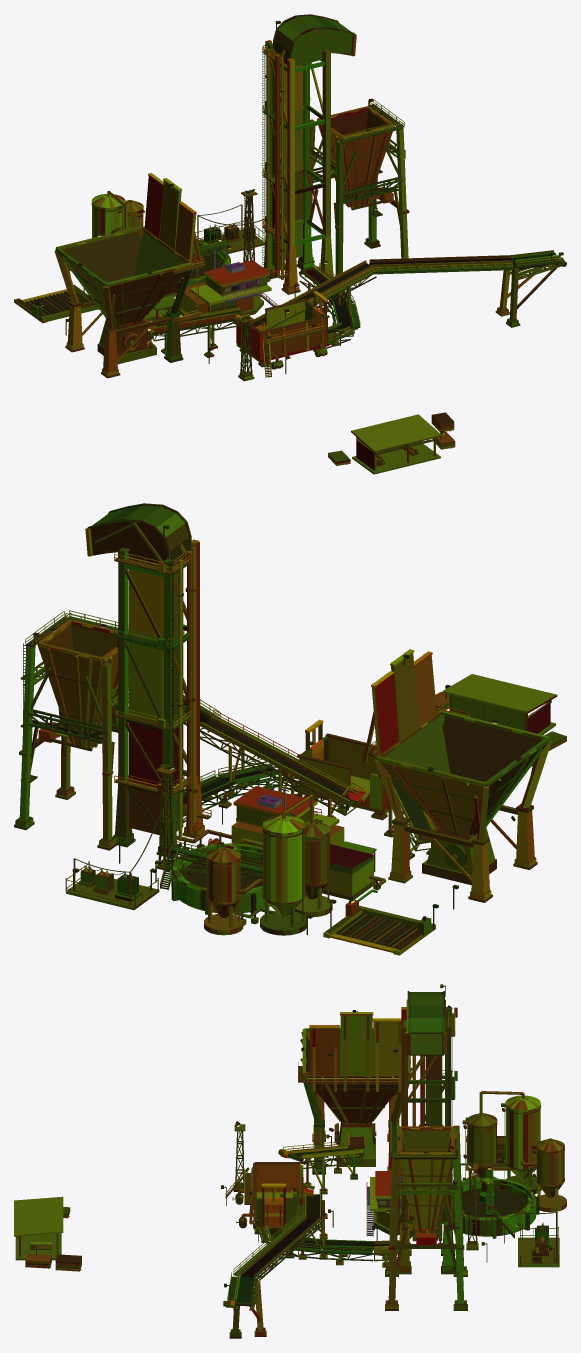
File: plant.glb
3 views of the same model, one above another, from view 1: azimuth 30°, elevation 25°; view 2: azimuth 150°, elevation 25°; view 3: azimuth 270°, elevation 25° (orthographic). The views are drawn at different scales.
Visible parts, largest first — view 1: plant_geo; view 2: plant_geo; view 3: plant_geo, jig_gate_door_geo.
Part boxes in pixels (x1,y1,x2,y2): plant_geo: (14,14,566,474); plant_geo: (14,503,566,955); plant_geo: (14,984,566,1338); jig_gate_door_geo: (264,1204,283,1226).
Size of the model in its own units: 120 by 74.9 by 127.
